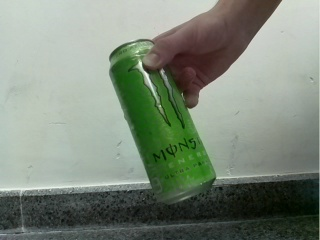botella plastico: (108, 38, 217, 203)
